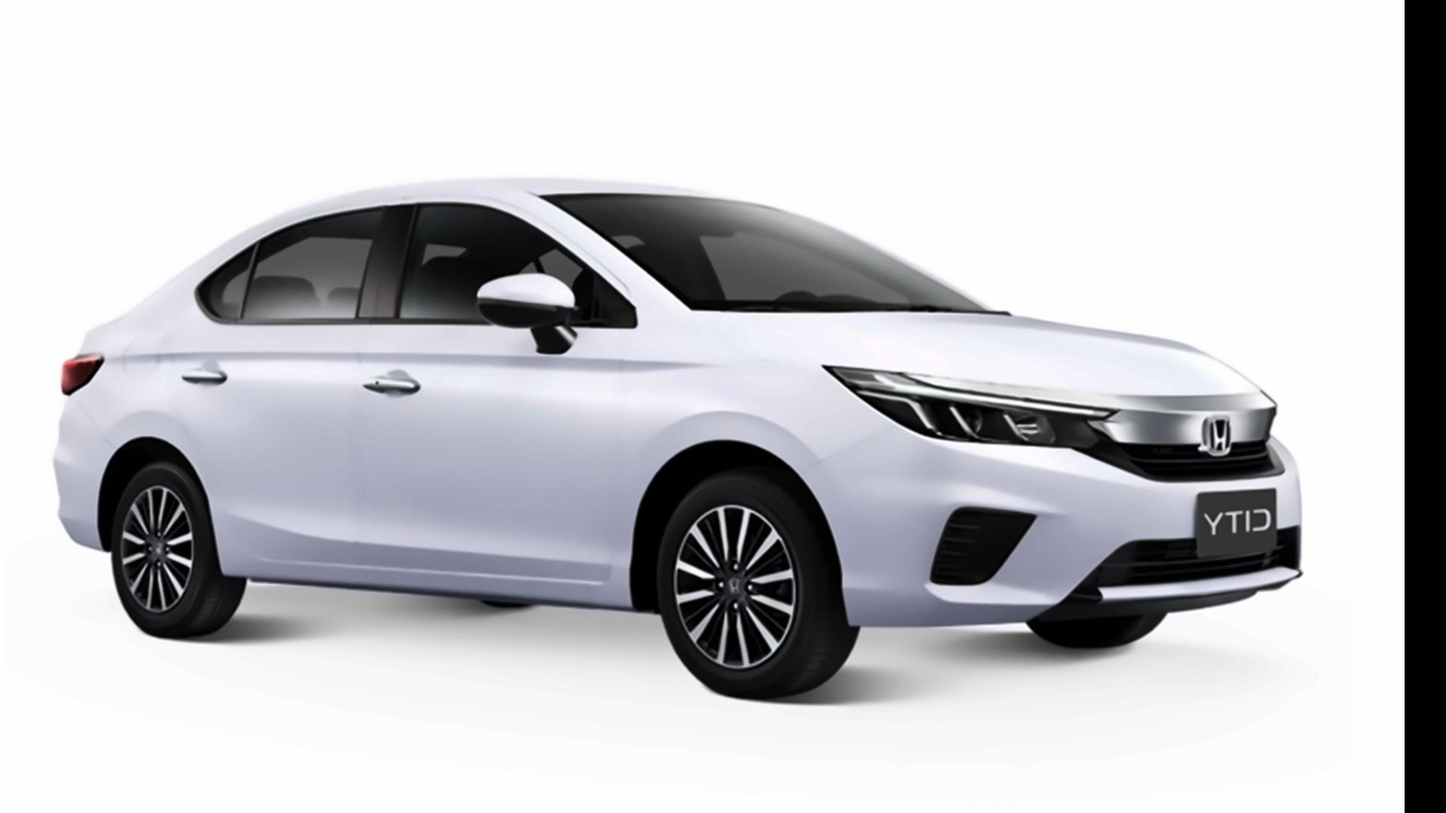Car hood: (677, 299, 1281, 423)
Driver-s door - -F-R-: (339, 176, 664, 611)
Fender - -F-R-: (604, 269, 888, 631)
Fender - -R-R-: (70, 212, 237, 512)
Front bumper: (810, 425, 1305, 626)
Headlight - -R-: (821, 360, 1115, 453)
Passenger-s door - -R-R-: (162, 172, 402, 607)
Rear bumper: (33, 408, 135, 552)
Rear light - -L-: (61, 348, 108, 404)
Side bumper - -R-: (211, 516, 670, 630)
Side mirror - -R-: (473, 272, 579, 360)
